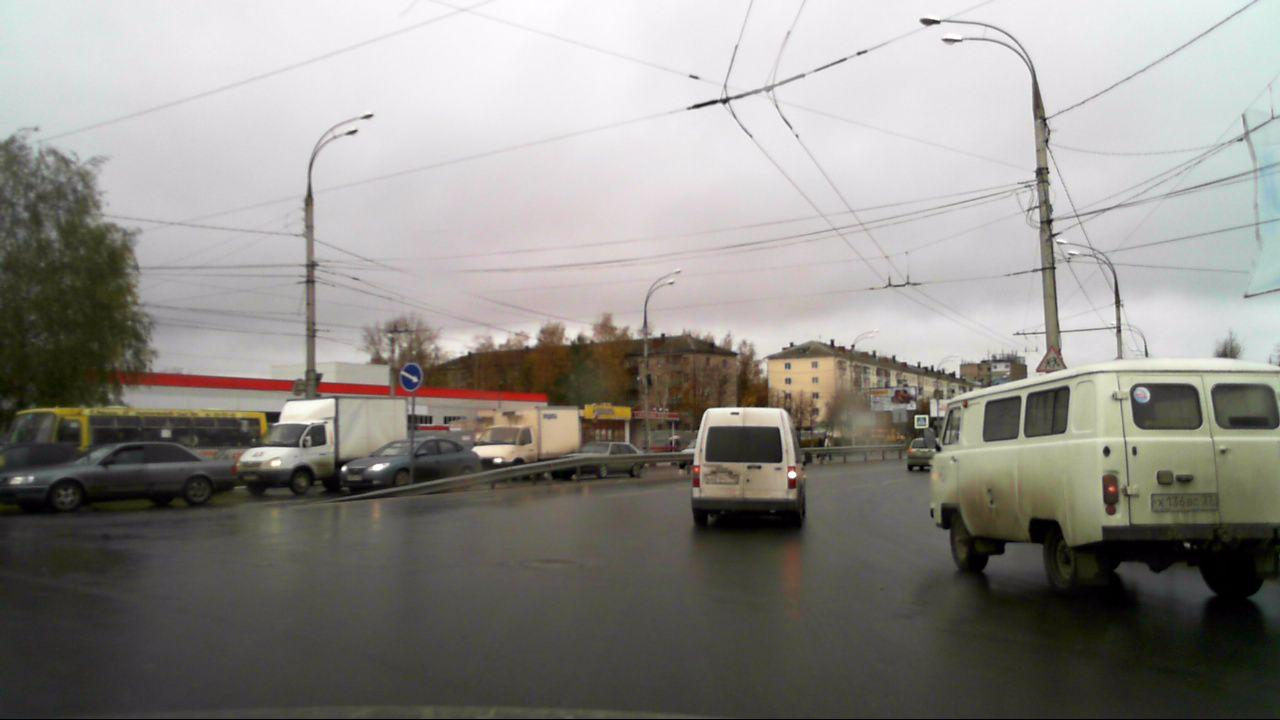road_sign: (1036, 345, 1068, 371), (399, 364, 423, 390), (914, 415, 929, 429)
